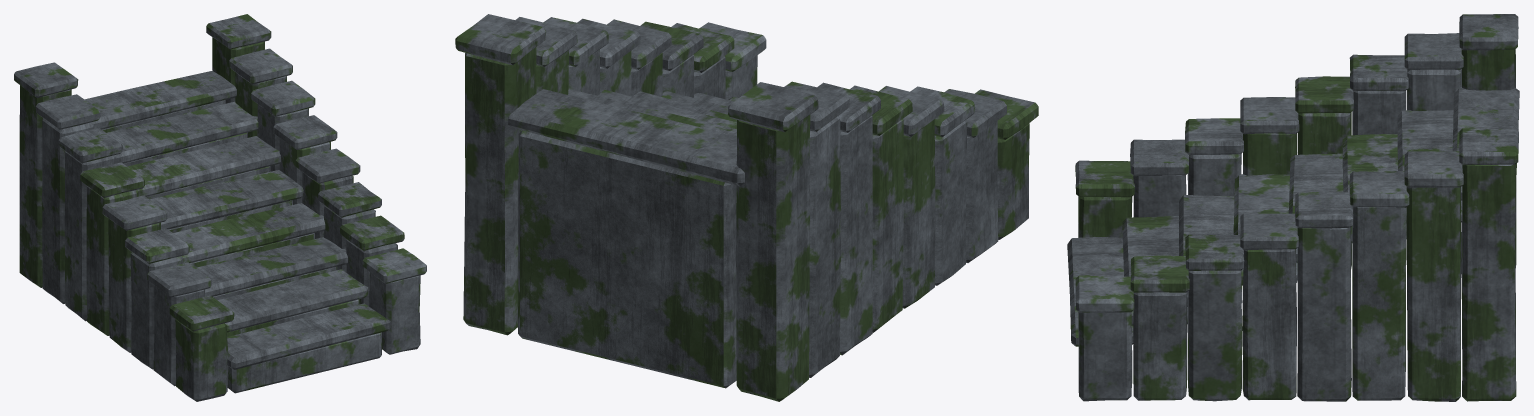
Rendered from Bell_Stair_Straight_A.glb.
The picture shows the model from 3 angles, left to right: view 1: azimuth 30°, elevation 25°; view 2: azimuth 150°, elevation 25°; view 3: azimuth 270°, elevation 25°; orthographic projection. The views are drawn at different scales.
Parts seen in each view (by area): view 1: Bell_Stair_Straight_A__Stone; view 2: Bell_Stair_Straight_A__Stone; view 3: Bell_Stair_Straight_A__Stone.
Boxes of the visible parts, x1,y1,x2,y2 form: Bell_Stair_Straight_A__Stone: (14,14,426,401); Bell_Stair_Straight_A__Stone: (455,14,1038,401); Bell_Stair_Straight_A__Stone: (1067,14,1519,401).
Size of the model in its own units: 10.45 by 8.68 by 14.02.
Materials: 1 (1 with a texture image).
